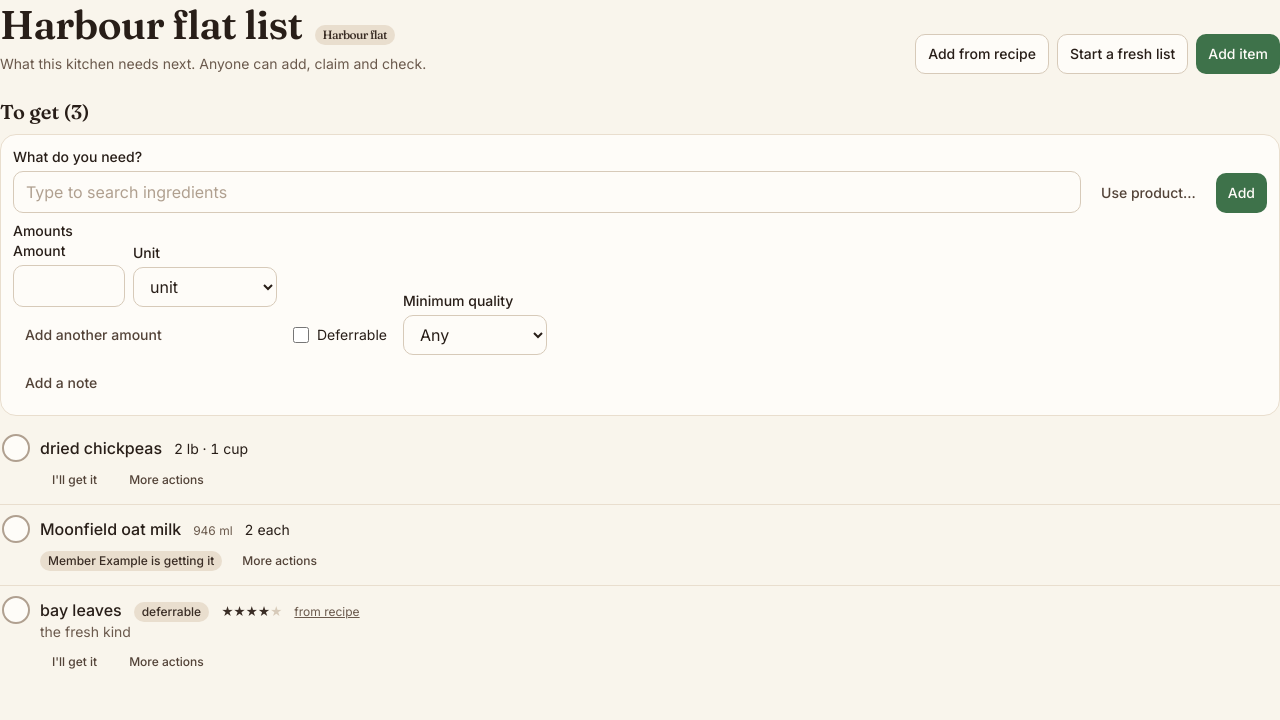
the list page: check, claim and stale edits (UI-8.6) › sends the updated_at it saw and, on a stale answer, shows the server's row and says so
This screenshot has width=1280, height=720.
Click the button with aria-label "More actions for bay leaves": (166, 662) x1=117 y1=646 x2=216 y2=678
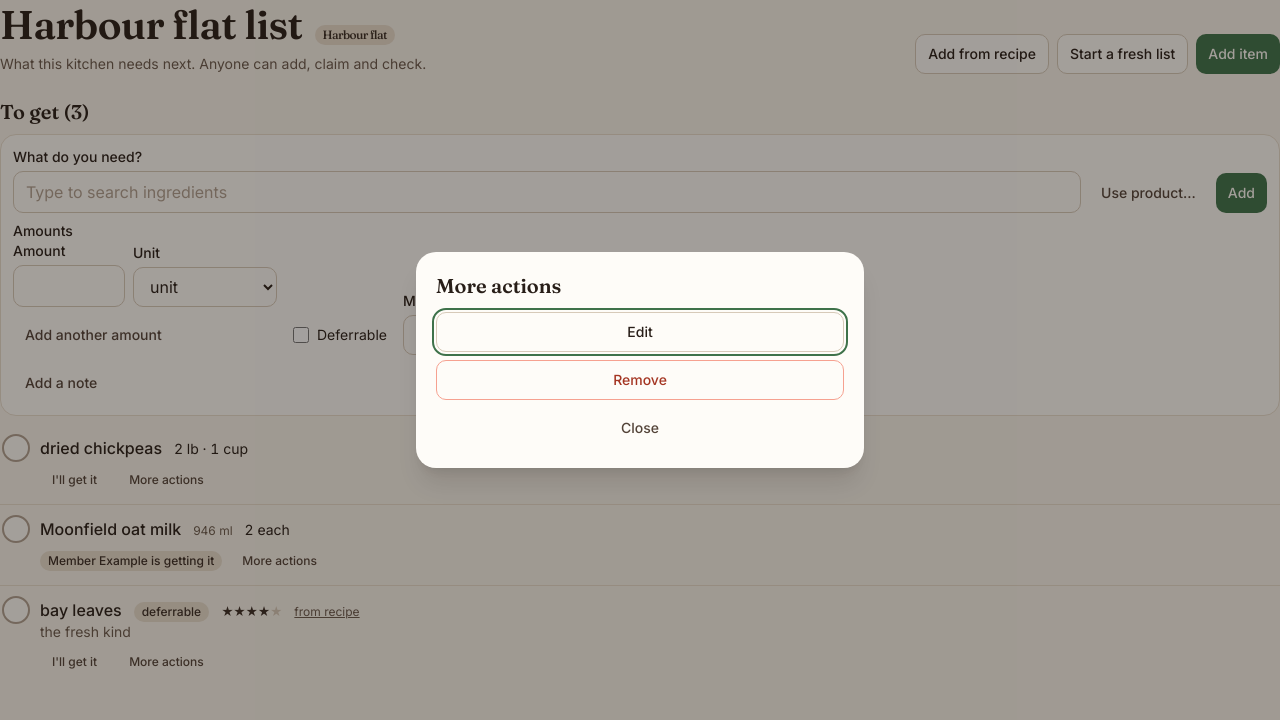
Click the button "Edit": (640, 332) x1=436 y1=312 x2=844 y2=352
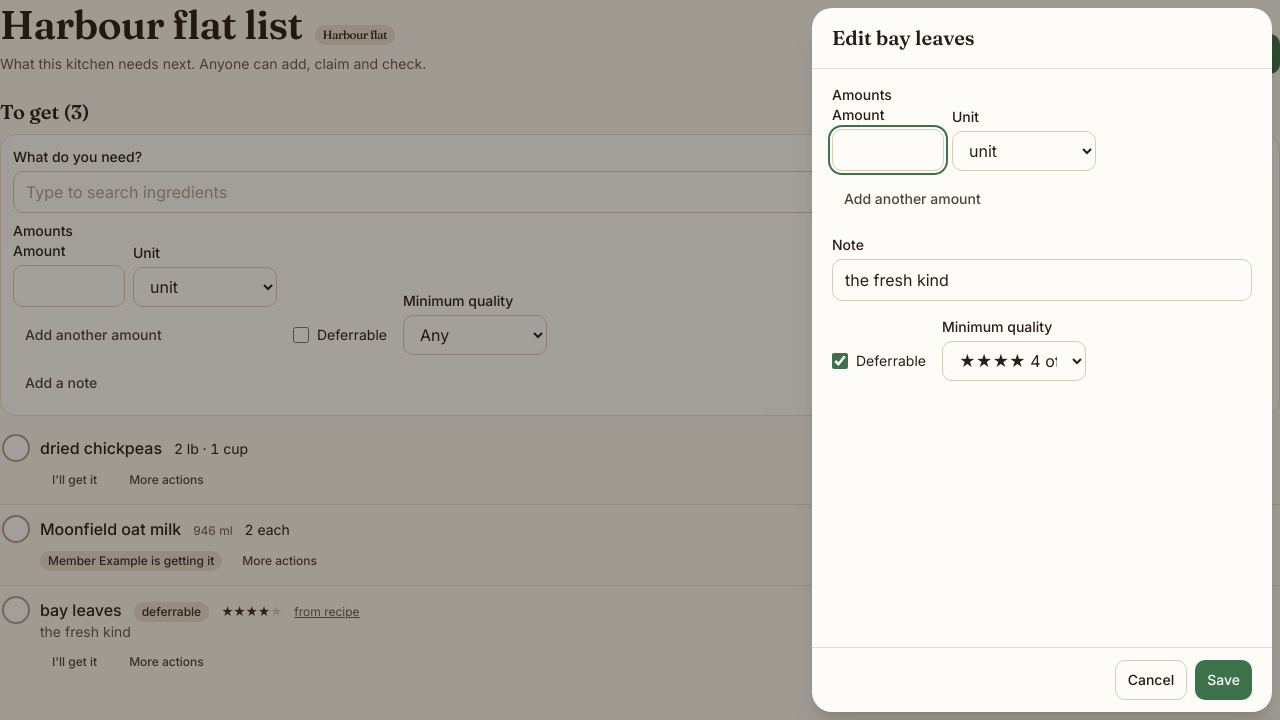
Replace the text in the field labelled "Note" with "dried is fine": (1042, 280) x1=832 y1=259 x2=1252 y2=301
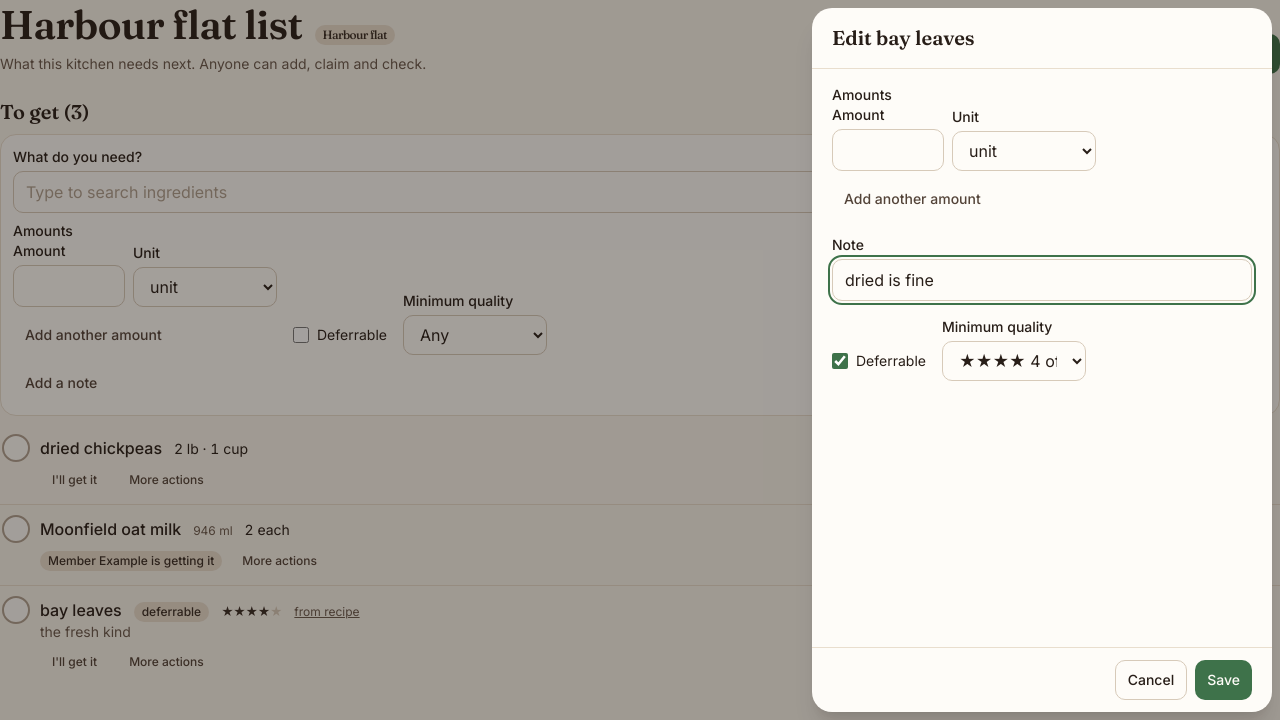
Click the button "Save": (1224, 680) x1=1195 y1=660 x2=1252 y2=700
(page scrolled)
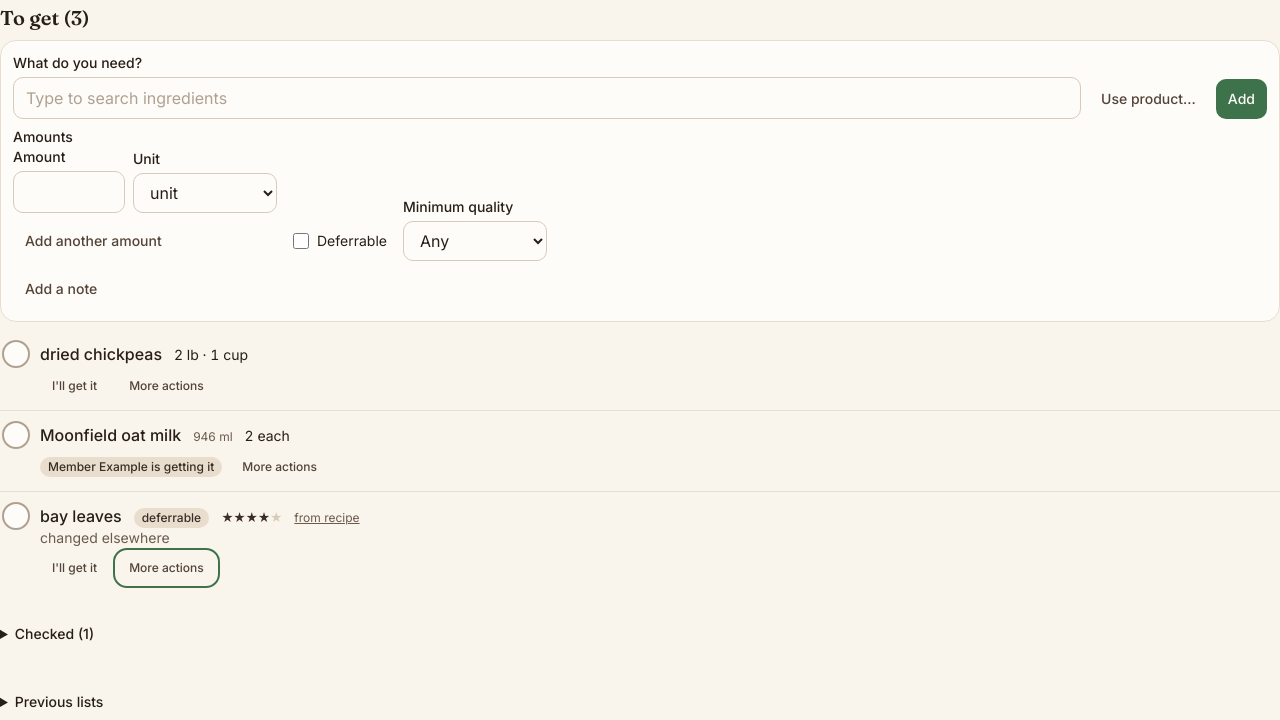
Expected: the dialog is gone
Expected: the list item with test id "list-item" shows "changed elsewhere", x1=40 y1=529 x2=170 y2=546
